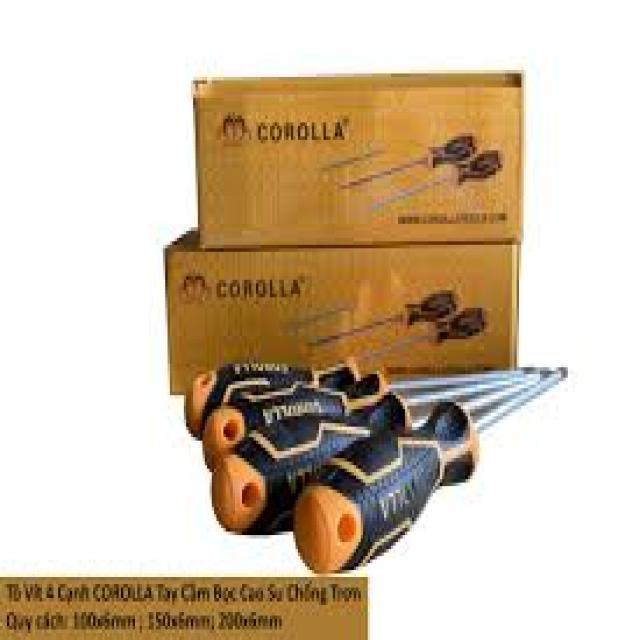screwdriver: (287, 360, 576, 584), (204, 366, 556, 540), (187, 364, 553, 479), (165, 364, 542, 441)
